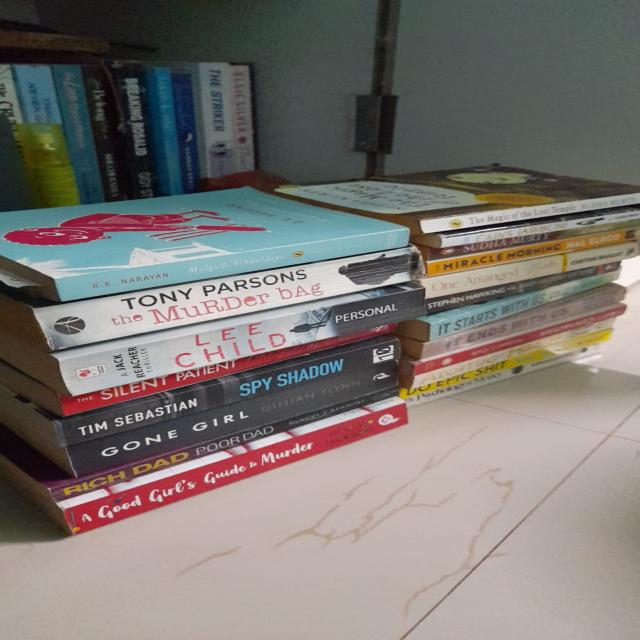book: (64, 403, 405, 536), (51, 384, 398, 503), (59, 287, 426, 395), (40, 248, 409, 351), (76, 361, 394, 480), (65, 342, 390, 447), (60, 229, 404, 298), (277, 165, 639, 219), (420, 287, 624, 358), (412, 317, 614, 388), (417, 306, 624, 374), (428, 268, 620, 341), (425, 242, 635, 297), (425, 226, 639, 277), (427, 260, 619, 313), (16, 65, 83, 208), (425, 192, 639, 229), (54, 67, 106, 204), (113, 64, 157, 199), (197, 63, 237, 190), (154, 69, 185, 196), (232, 65, 257, 186)
